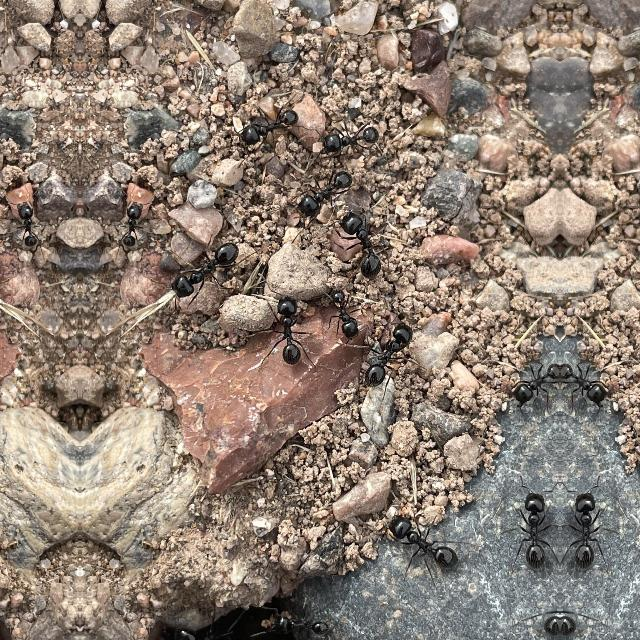Messor: (371, 502, 463, 584), (166, 232, 260, 304), (226, 96, 324, 164), (322, 194, 398, 280), (306, 110, 392, 170), (360, 295, 412, 387), (264, 293, 322, 373), (514, 466, 556, 570), (564, 466, 606, 570), (288, 166, 358, 220), (322, 277, 373, 347), (260, 601, 348, 639), (512, 354, 560, 412), (560, 354, 608, 412), (116, 198, 160, 254), (0, 198, 44, 254), (155, 617, 235, 639), (519, 606, 559, 640), (561, 606, 601, 640)
